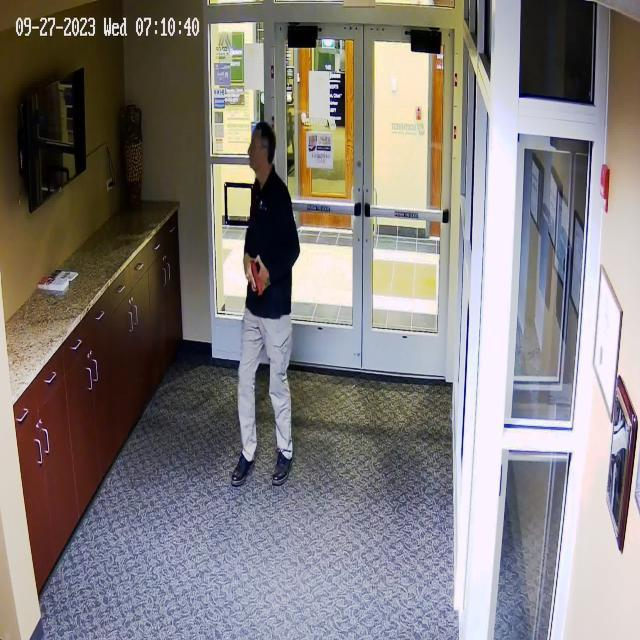Gun: (232, 246, 280, 305)
